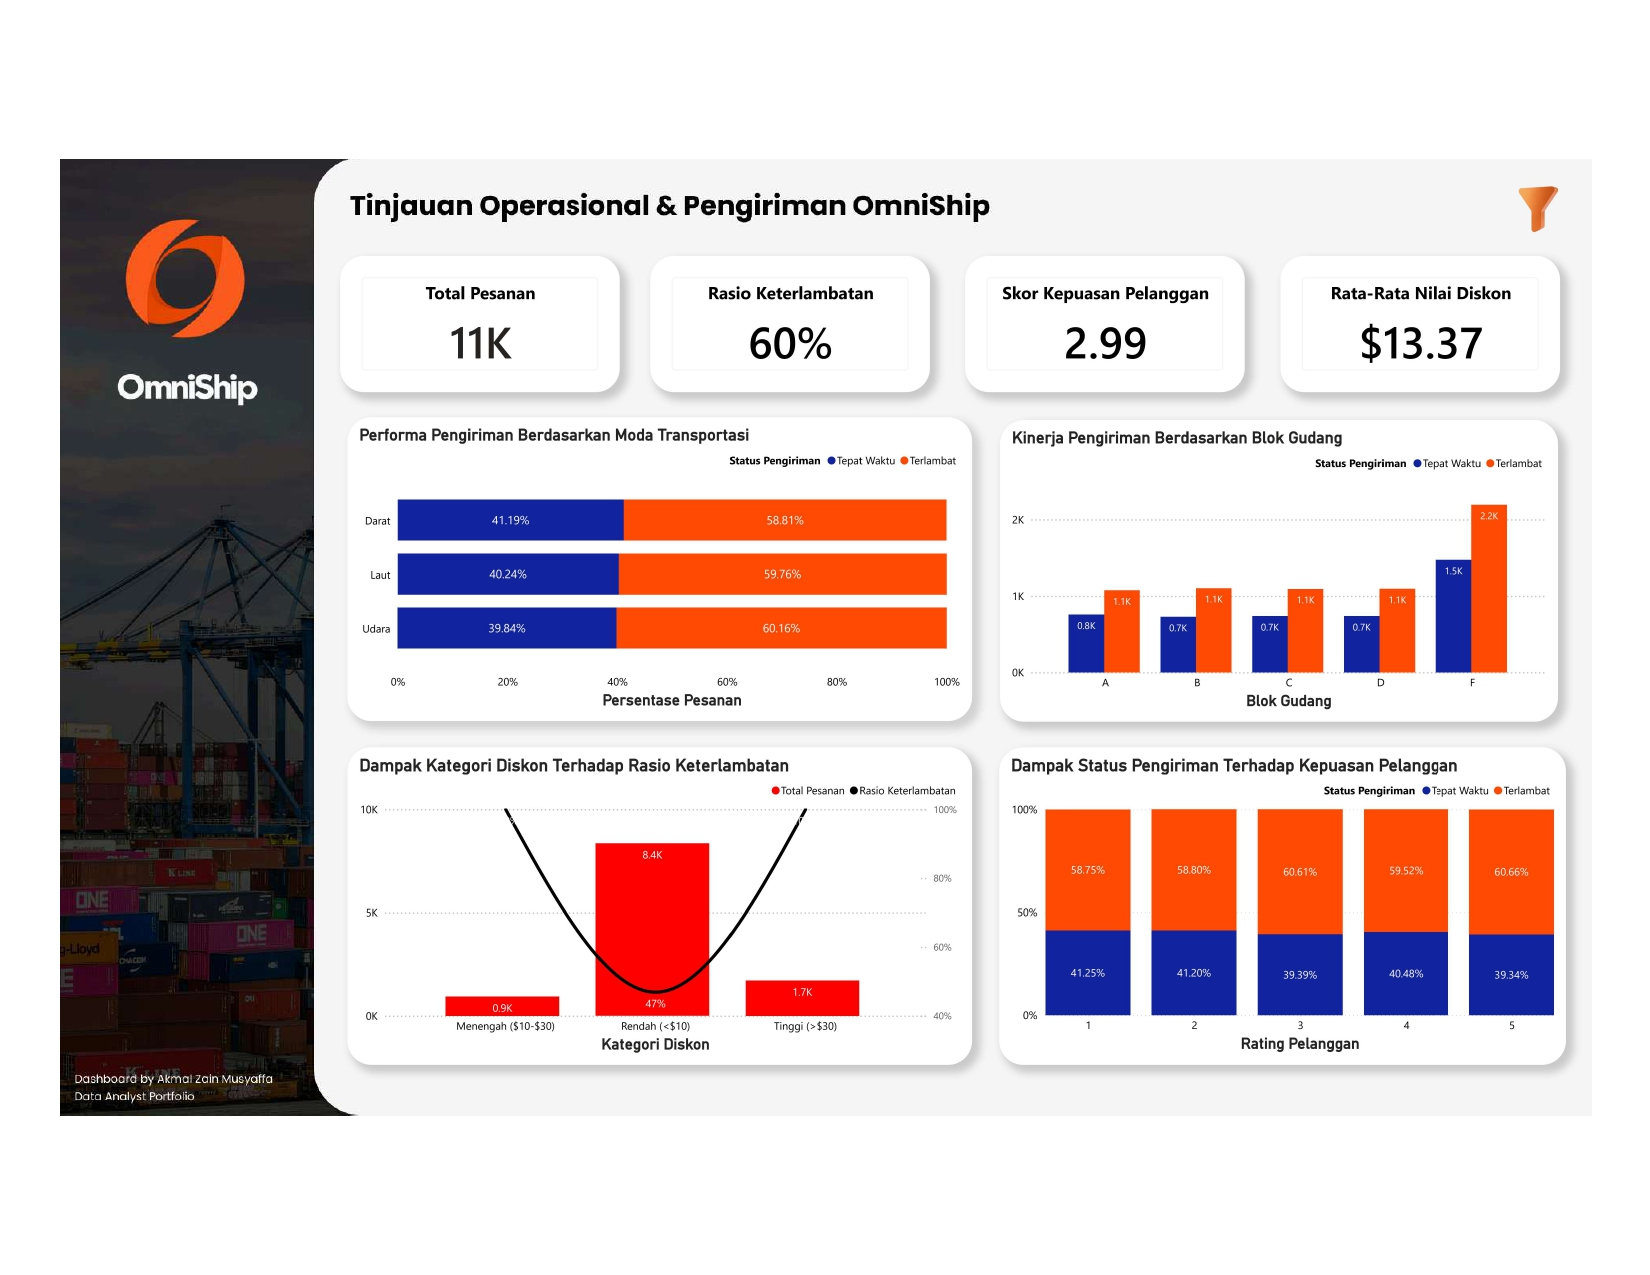

The dashboard page shown, as its layout file describes it:
{"tool":"powerbi","page":{"name":"Page 1","canvas":[1920,1200],"ordinal":0},"visuals":[{"type":"image","box":[1820,32.9,64.3,61.4],"z":0},{"type":"cardVisual","fields":{"Data":["Avg(Clean_SwiftCart_Shipping.Discount_offered)"]},"box":[1529.8,121.6,350,170],"z":2000},{"type":"cardVisual","fields":{"Data":["Avg(Clean_SwiftCart_Shipping.Customer_rating)"]},"box":[1134.8,121.6,350,170],"z":3000},{"type":"cardVisual","fields":{"Data":["Clean_SwiftCart_Shipping.% Late Rate"]},"box":[739.8,121.6,350,170],"z":4000},{"type":"hundredPercentStackedBarChart","title":"Performa Pengiriman Berdasarkan Moda Transportasi","fields":{"Category":["Clean_SwiftCart_Shipping.Mode_of_Shipment"],"Y":["CountNonNull(Clean_SwiftCart_Shipping.ID)"],"Series":["Clean_SwiftCart_Shipping.Delivery_Status"]},"box":[360,324,782,380],"z":5000},{"type":"clusteredColumnChart","title":"Kinerja Pengiriman Berdasarkan Blok Gudang","fields":{"Category":["Clean_SwiftCart_Shipping.Warehouse_block"],"Y":["CountNonNull(Clean_SwiftCart_Shipping.ID)"],"Series":["Clean_SwiftCart_Shipping.Delivery_Status"]},"box":[1178,326,698,378],"z":6000},{"type":"cardVisual","fields":{"Data":["Clean_SwiftCart_Shipping.Total Orders"]},"box":[352.3,121.6,350,170],"z":7000},{"type":"lineClusteredColumnComboChart","title":"Dampak Kategori Diskon Terhadap Rasio Keterlambatan","fields":{"Category":["Clean_SwiftCart_Shipping.Discount_Category"],"Y":["CountNonNull(Clean_SwiftCart_Shipping.ID)"],"Y2":["Clean_SwiftCart_Shipping.% Late Rate"]},"box":[360,735,781.7,398.3],"z":8000},{"type":"hundredPercentStackedColumnChart","title":"Dampak Status Pengiriman Terhadap Kepuasan Pelanggan","fields":{"Category":["Clean_SwiftCart_Shipping.Customer_rating"],"Y":["CountNonNull(Clean_SwiftCart_Shipping.ID)"],"Series":["Clean_SwiftCart_Shipping.Delivery_Status"]},"box":[1177.5,735,710,397.5],"z":9000}]}

Visuals, with their boxes on the page's 1920x1200 design canvas (x1, y1, x2, y2). These are canvas units, not pixel positions in the 1650x1275 screenshot, which may show the page scaled, cropped or inside an application window:
image: x1=1820 y1=33 x2=1884 y2=94
cardVisual - Avg(Clean_SwiftCart_Shipping.Discount_offered): x1=1530 y1=122 x2=1880 y2=292
cardVisual - Avg(Clean_SwiftCart_Shipping.Customer_rating): x1=1135 y1=122 x2=1485 y2=292
cardVisual - Clean_SwiftCart_Shipping.% Late Rate: x1=740 y1=122 x2=1090 y2=292
"Performa Pengiriman Berdasarkan Moda Transportasi" hundredPercentStackedBarChart: x1=360 y1=324 x2=1142 y2=704
"Kinerja Pengiriman Berdasarkan Blok Gudang" clusteredColumnChart: x1=1178 y1=326 x2=1876 y2=704
cardVisual - Clean_SwiftCart_Shipping.Total Orders: x1=352 y1=122 x2=702 y2=292
"Dampak Kategori Diskon Terhadap Rasio Keterlambatan" lineClusteredColumnComboChart: x1=360 y1=735 x2=1142 y2=1133
"Dampak Status Pengiriman Terhadap Kepuasan Pelanggan" hundredPercentStackedColumnChart: x1=1178 y1=735 x2=1888 y2=1132
